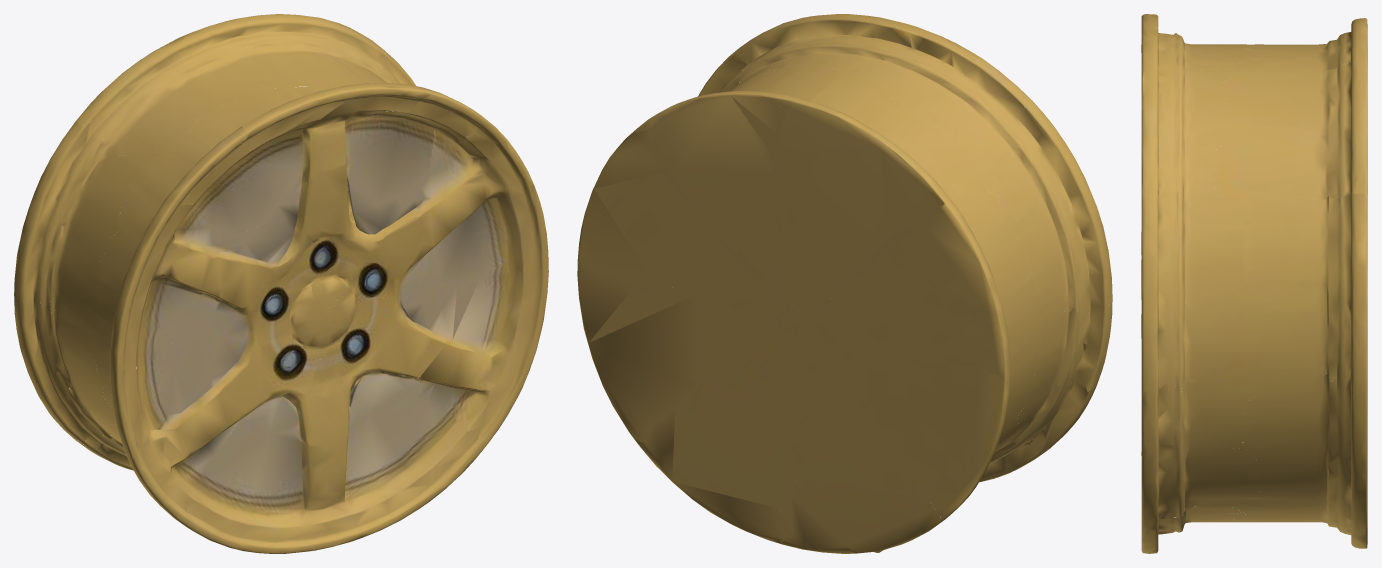
File: imprezka_rim.glb
3 views of the same model, side by side, from view 1: azimuth 30°, elevation 25°; view 2: azimuth 150°, elevation 25°; view 3: azimuth 270°, elevation 25° (orthographic). The views are drawn at different scales.
Visible parts, largest first — view 1: tripo_node_0a9c1d6c-9569-4c3c-bc7b-a54836b2a857; view 2: tripo_node_0a9c1d6c-9569-4c3c-bc7b-a54836b2a857; view 3: tripo_node_0a9c1d6c-9569-4c3c-bc7b-a54836b2a857.
Part boxes in pixels (x1,y1,x2,y2): tripo_node_0a9c1d6c-9569-4c3c-bc7b-a54836b2a857: (14, 14, 548, 553); tripo_node_0a9c1d6c-9569-4c3c-bc7b-a54836b2a857: (577, 14, 1112, 553); tripo_node_0a9c1d6c-9569-4c3c-bc7b-a54836b2a857: (1141, 14, 1367, 553).
Bounding box in the file's own units: 1 × 0.9998 × 0.423.
Materials: 1 (1 with a texture image).
